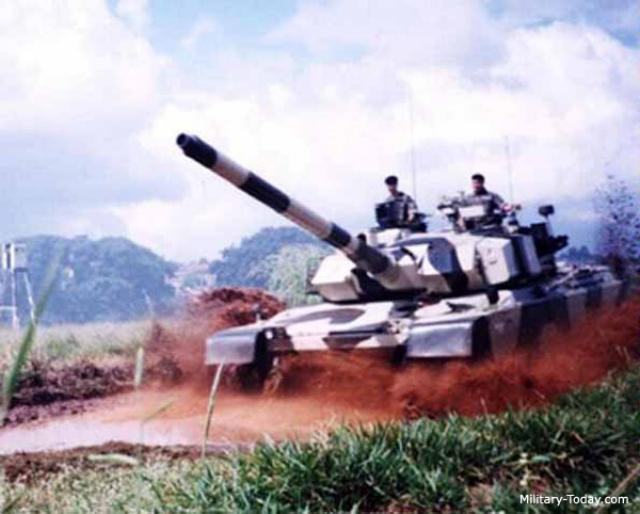other: (371, 173, 423, 221), (452, 173, 498, 218)
tank: (218, 210, 620, 378)
